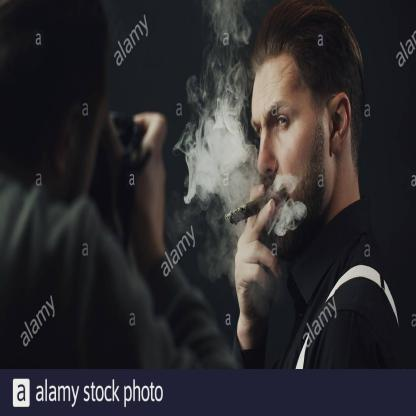cigarette: (226, 197, 267, 227)
person: (244, 1, 400, 366)
smoke: (176, 102, 256, 202), (203, 0, 248, 101)
